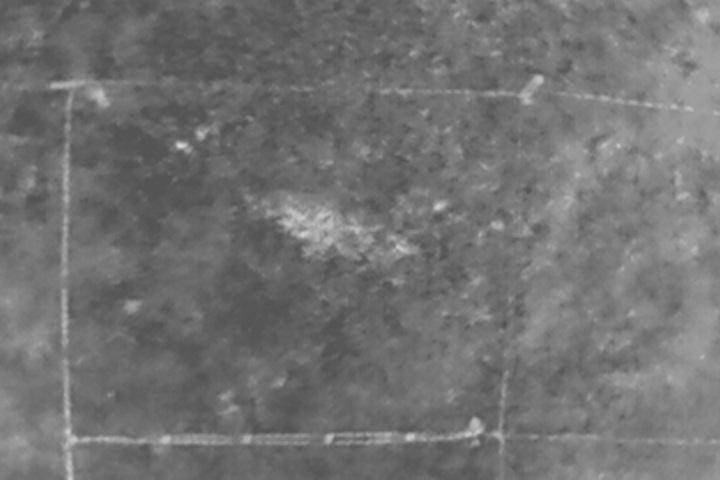landmine: (287, 203, 333, 245)
